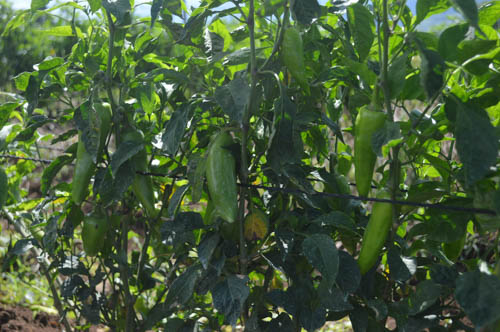ChiliPepper: (201, 133, 235, 225), (351, 106, 383, 203), (69, 127, 103, 206), (126, 121, 153, 208), (363, 194, 388, 285), (280, 24, 311, 94), (81, 214, 104, 254)
